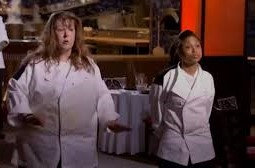Bad: (5, 11, 255, 168)
